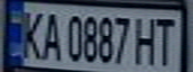0: (63, 10, 84, 63)
7: (112, 12, 136, 65)
8: (78, 11, 100, 63), (97, 12, 118, 64)
A: (39, 8, 63, 61)
H: (133, 14, 160, 66)
K: (15, 7, 48, 61)
T: (151, 14, 181, 66)
